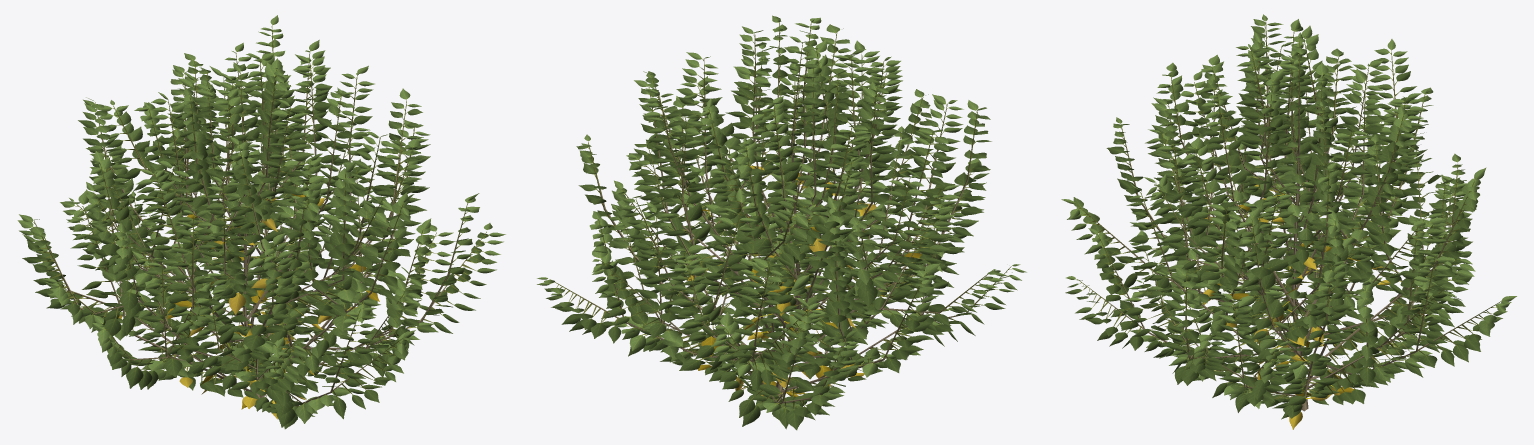
File: Hedera helix 'Erecta' HD_Wild mat 50_LOD3.fbx
3 renders of one model, left to right at view 1: azimuth 30°, elevation 25°; view 2: azimuth 150°, elevation 25°; view 3: azimuth 270°, elevation 25°, orthographic. The views are drawn at different scales.
Parts seen in each view (by area): view 1: Hedera_helix__Erecta__HD; view 2: Hedera_helix__Erecta__HD; view 3: Hedera_helix__Erecta__HD.
Part boxes in pixels (x1=…): Hedera_helix__Erecta__HD: x1=17, y1=15, x2=505, y2=429; Hedera_helix__Erecta__HD: x1=537, y1=15, x2=1026, y2=430; Hedera_helix__Erecta__HD: x1=1061, y1=14, x2=1516, y2=429.
Size of the model in its own units: 0.9445 by 0.7911 by 0.9024.
Materials: 10 (10 with a texture image).
